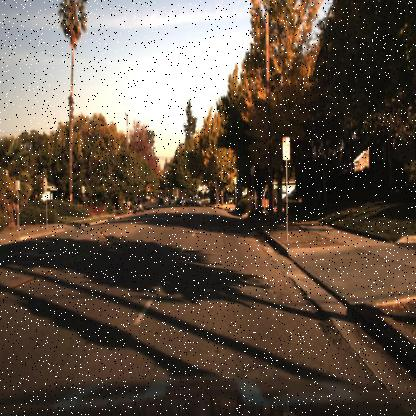car: (131, 196, 144, 216), (132, 196, 144, 214), (185, 192, 197, 208)
